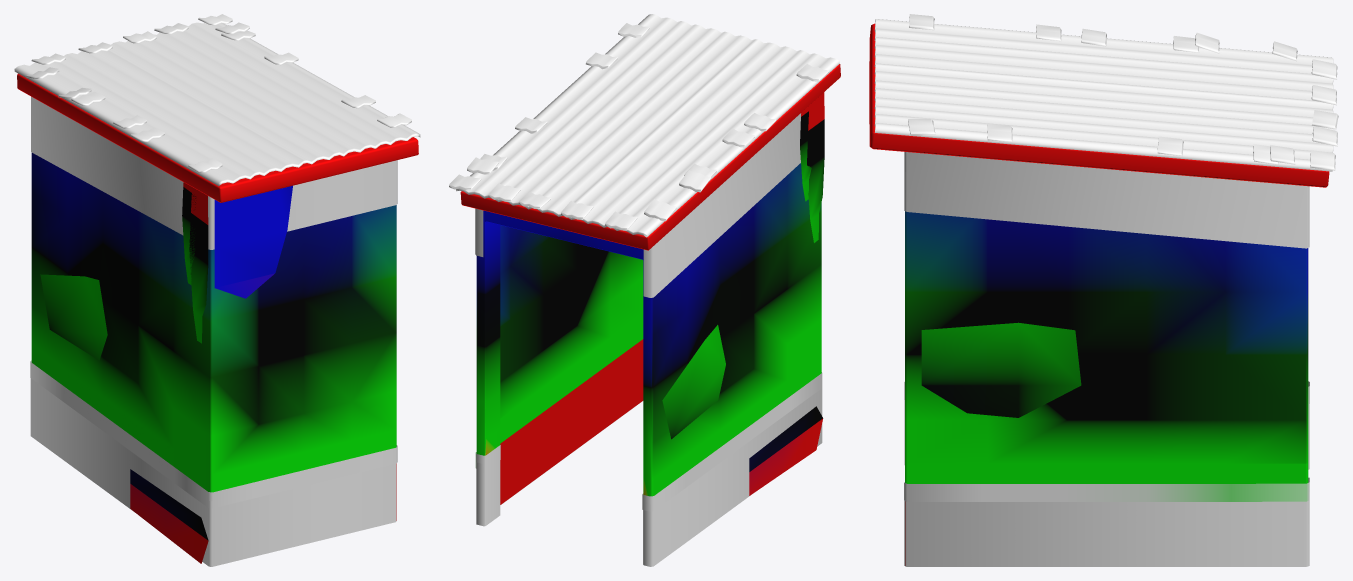
Rendered from ExtraBuilding_D_Snaps004.FBX.
3 views of the same model, side by side, from view 1: azimuth 30°, elevation 25°; view 2: azimuth 150°, elevation 25°; view 3: azimuth 270°, elevation 25° (orthographic). The views are drawn at different scales.
Parts seen in each view (by area): view 1: Geometry_ExtraBuilding_D_LOD00, Geometry_Decal_B_LOD00, Geometry_Decal_C_LOD00; view 2: Geometry_ExtraBuilding_D_LOD00, Geometry_Decal_B_LOD00, Geometry_Decal_C_LOD00; view 3: Geometry_ExtraBuilding_D_LOD00, Geometry_Decal_B_LOD00, Geometry_Decal_C_LOD00.
Boxes of the visible parts, x1,y1,x2,y2 form: Geometry_ExtraBuilding_D_LOD00: [14, 14, 420, 520]; Geometry_Decal_B_LOD00: [30, 96, 397, 566]; Geometry_Decal_C_LOD00: [40, 182, 292, 563]; Geometry_ExtraBuilding_D_LOD00: [449, 14, 840, 504]; Geometry_Decal_B_LOD00: [475, 113, 822, 566]; Geometry_Decal_C_LOD00: [662, 92, 824, 495]; Geometry_ExtraBuilding_D_LOD00: [869, 14, 1338, 565]; Geometry_Decal_B_LOD00: [904, 152, 1309, 566]; Geometry_Decal_C_LOD00: [921, 322, 1081, 417].
Size of what is drawn, in the model's own units: 174 by 308 by 291.
